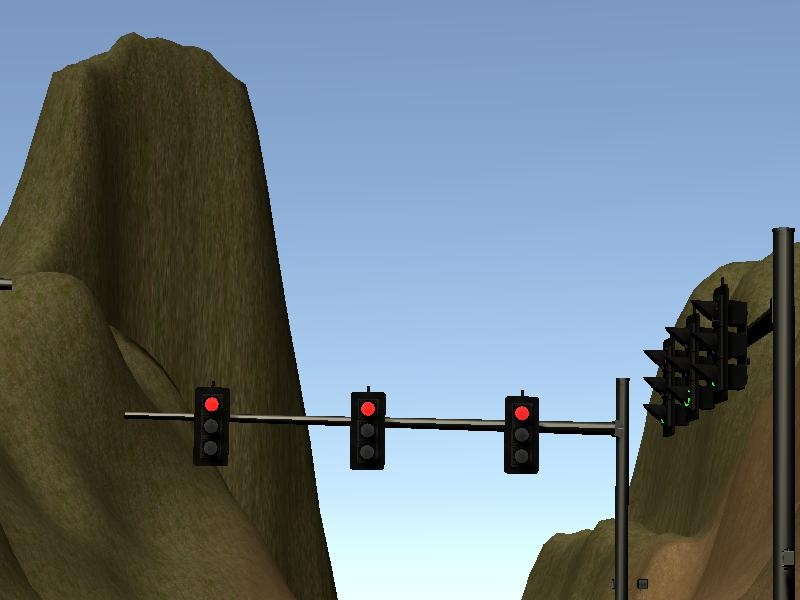red: (348, 390, 387, 470), (502, 393, 540, 475), (192, 385, 230, 467)
